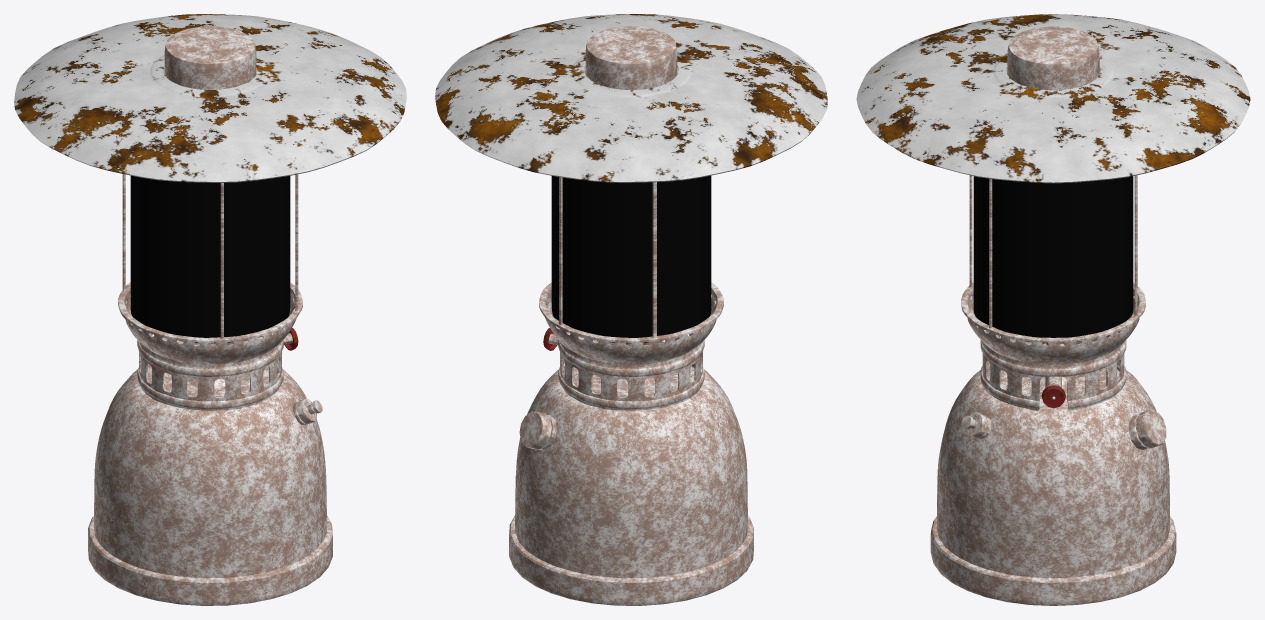
Rendered from OldLamp.fbx.
The picture shows the model from 3 angles, left to right: view 1: azimuth 30°, elevation 25°; view 2: azimuth 150°, elevation 25°; view 3: azimuth 270°, elevation 25°; orthographic projection.
Visible parts, largest first — view 1: Lamp.001; view 2: Lamp.001; view 3: Lamp.001.
Boxes of the visible parts, x1=… form: Lamp.001: x1=14, y1=14, x2=406, y2=605; Lamp.001: x1=435, y1=14, x2=827, y2=605; Lamp.001: x1=856, y1=14, x2=1250, y2=605.
Bounding box in the file's own units: 39.2 × 56.01 × 39.2.
Materials: 1 (1 with a texture image).
